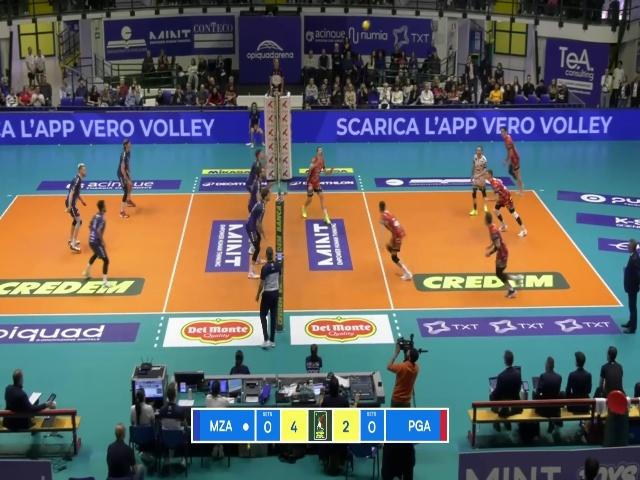volleyball court: (0, 188, 623, 312)
